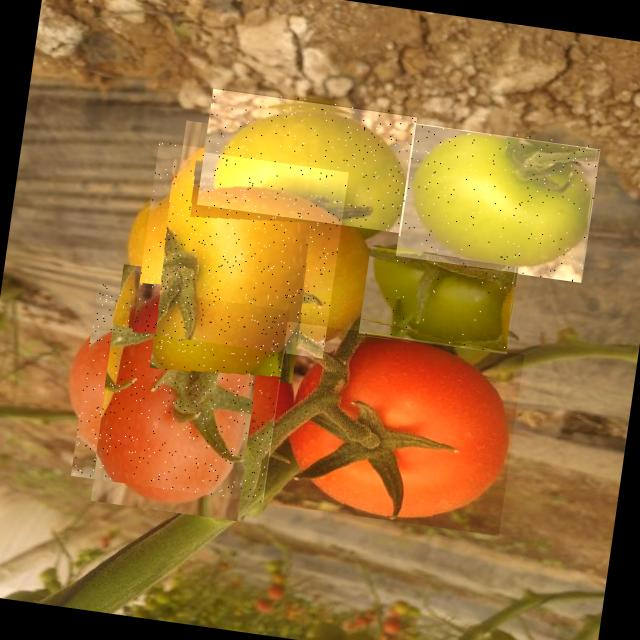Ripe Tomato: (262, 322, 524, 536), (71, 284, 290, 503)
Unripe Tomato: (132, 142, 349, 358), (396, 120, 601, 282), (197, 85, 418, 233), (358, 246, 520, 354)
